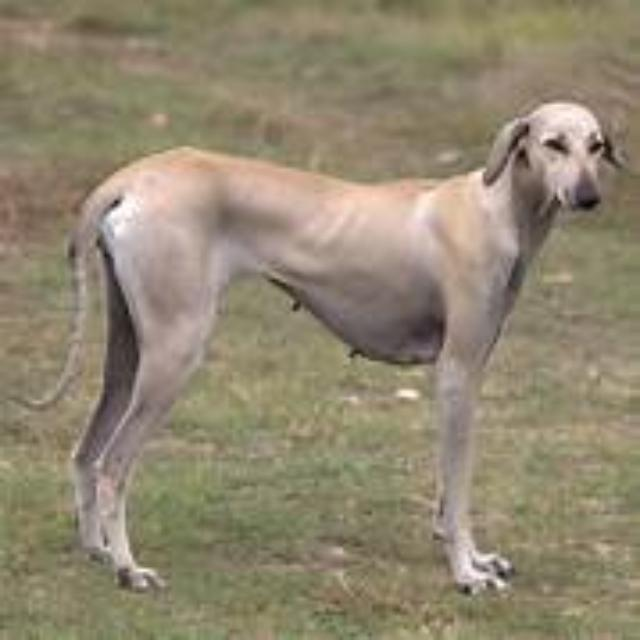dog: (58, 63, 640, 640)
